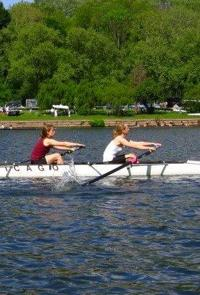person: (102, 123, 162, 167)
